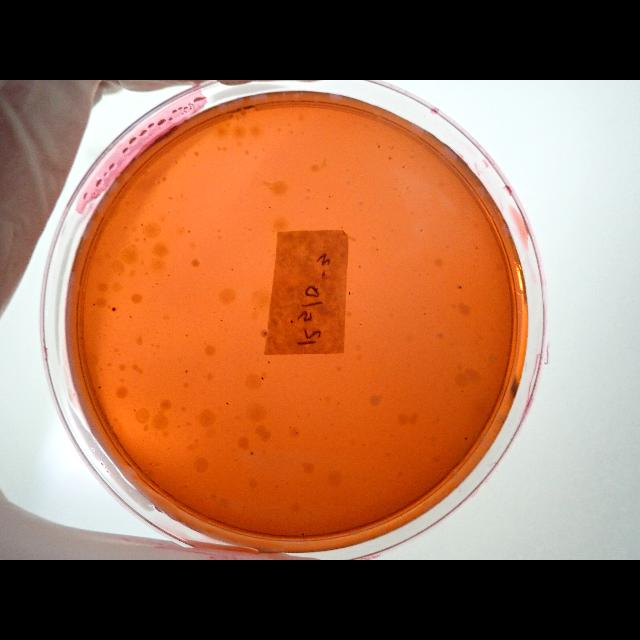colony: (262, 330, 268, 336), (300, 532, 306, 538), (128, 314, 134, 320), (112, 306, 116, 312), (458, 284, 462, 290), (402, 164, 406, 170), (185, 332, 189, 338), (250, 450, 254, 456), (288, 424, 292, 430), (295, 430, 299, 436), (348, 290, 352, 296), (140, 222, 144, 228), (261, 376, 265, 380), (225, 401, 229, 405), (219, 318, 223, 322), (92, 303, 96, 307), (464, 436, 468, 440), (474, 246, 478, 250), (388, 156, 392, 160), (187, 229, 191, 233), (185, 369, 189, 373), (318, 397, 322, 401), (359, 322, 363, 326), (325, 206, 329, 210), (184, 485, 188, 489), (419, 229, 423, 233), (358, 265, 362, 269), (423, 312, 427, 316), (268, 207, 272, 210), (329, 194, 331, 200), (336, 401, 339, 405), (230, 268, 233, 272), (268, 360, 270, 364), (98, 385, 100, 389), (134, 408, 136, 412), (378, 144, 380, 148), (168, 273, 170, 277), (296, 416, 300, 418), (376, 248, 378, 252), (254, 308, 256, 310)
